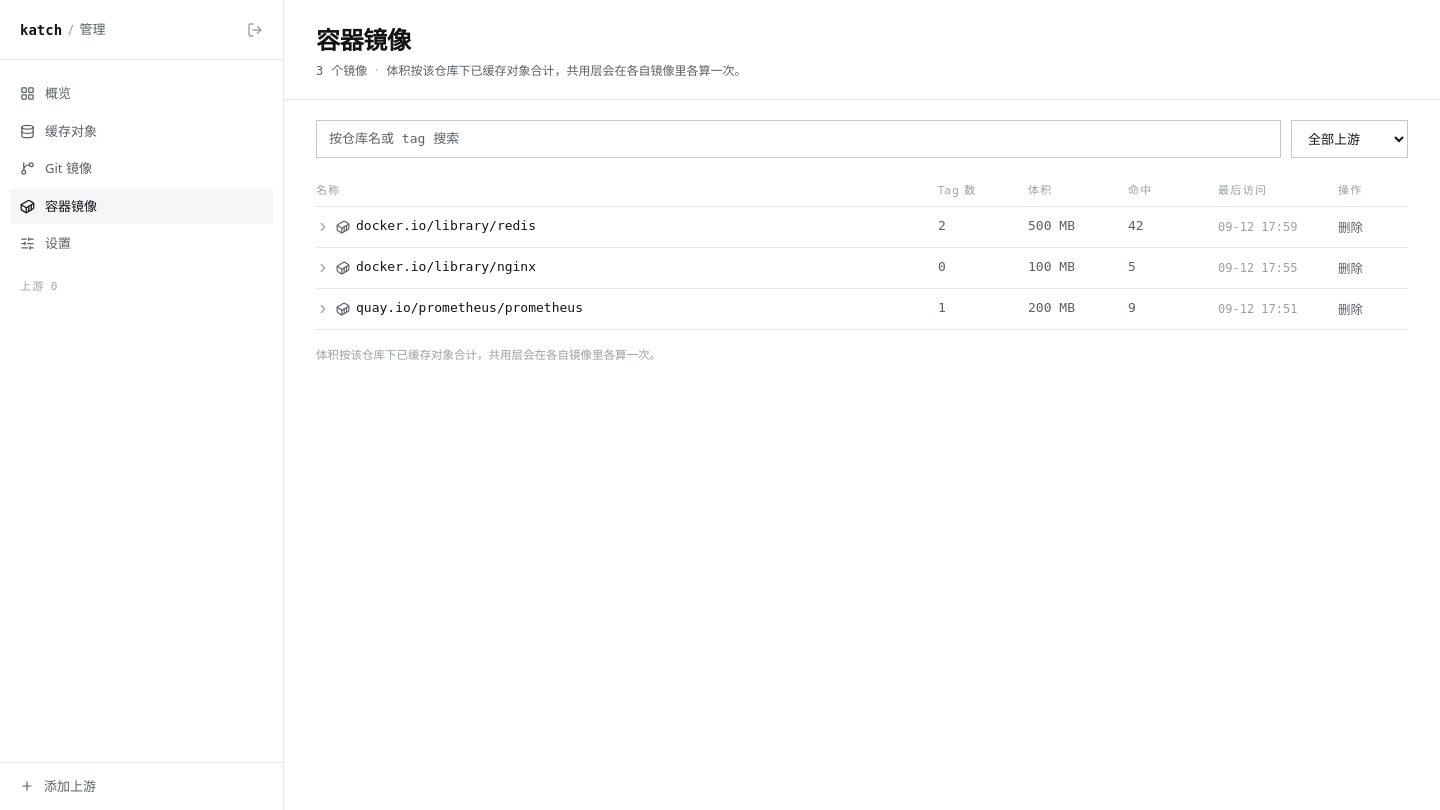
后台 · 容器镜像 › 展开的镜像读不出 tag 时给错误提示
This screenshot has width=1440, height=810.
Check: the table named "容器镜像" is shown, box [316,174,1408,330]
Click the button named "展开": (323, 227) [316,220,330,234]
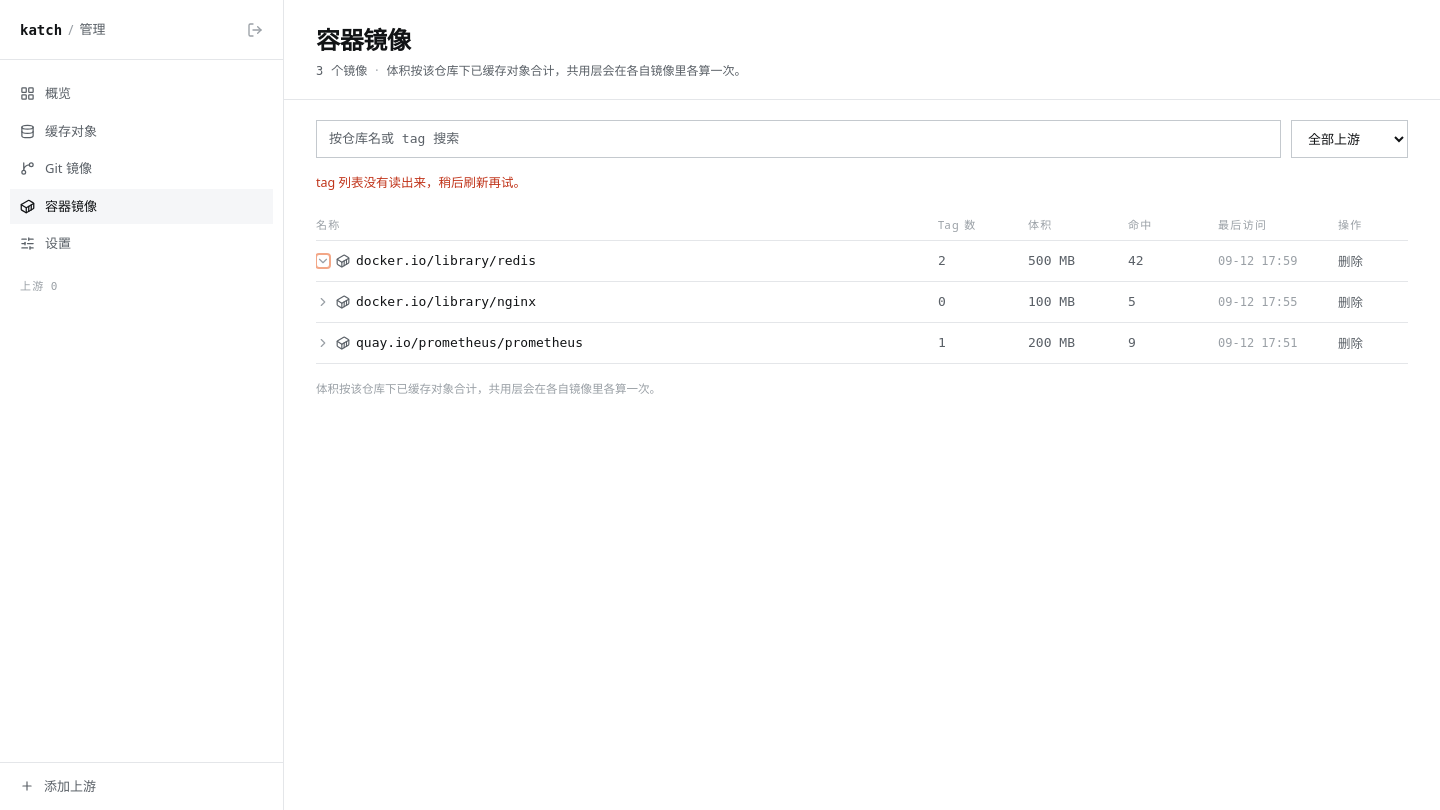
Check: the message reads "tag 列表没有读出来，稍后刷新再试。", box [316,174,526,191]
